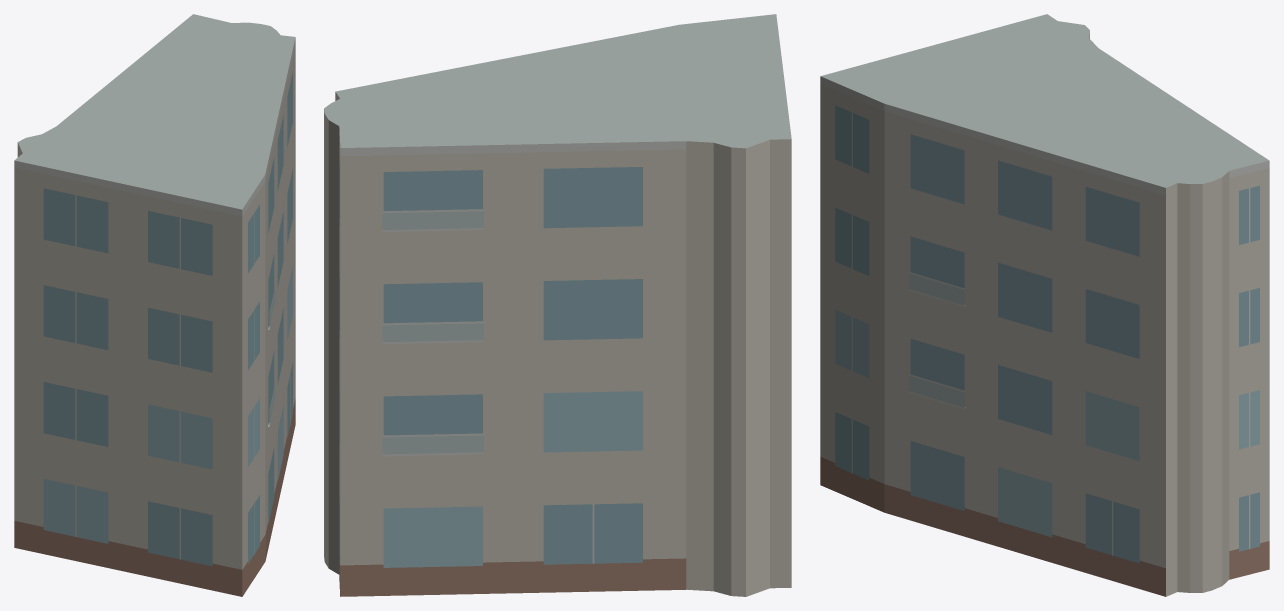
Rendered from survey-upis-32724548.glb.
The picture shows the model from 3 angles, left to right: view 1: azimuth 30°, elevation 25°; view 2: azimuth 150°, elevation 25°; view 3: azimuth 270°, elevation 25°; orthographic projection. The views are drawn at different scales.
Visible parts, largest first — view 1: survey-upis-32724548.tmp; view 2: survey-upis-32724548.tmp; view 3: survey-upis-32724548.tmp.
Part boxes in pixels (bbox=[...]): survey-upis-32724548.tmp: bbox=[14, 14, 295, 596]; survey-upis-32724548.tmp: bbox=[324, 14, 791, 596]; survey-upis-32724548.tmp: bbox=[820, 14, 1269, 596].
Bounding box in the file's own units: 12.42 × 13.6 × 13.55.
